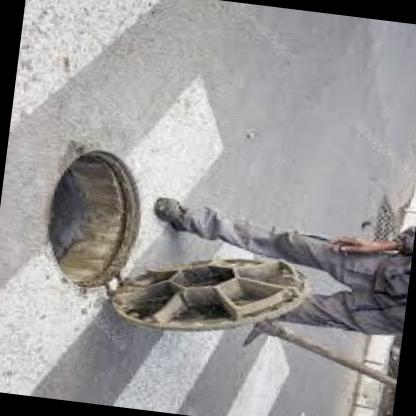manholes: (0, 102, 339, 403)
